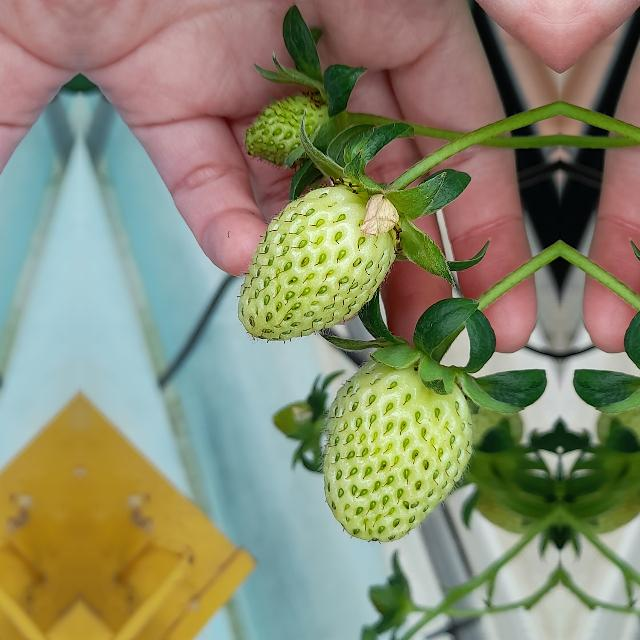Health_25: (322, 360, 472, 542), (238, 186, 406, 340), (246, 94, 334, 166)
